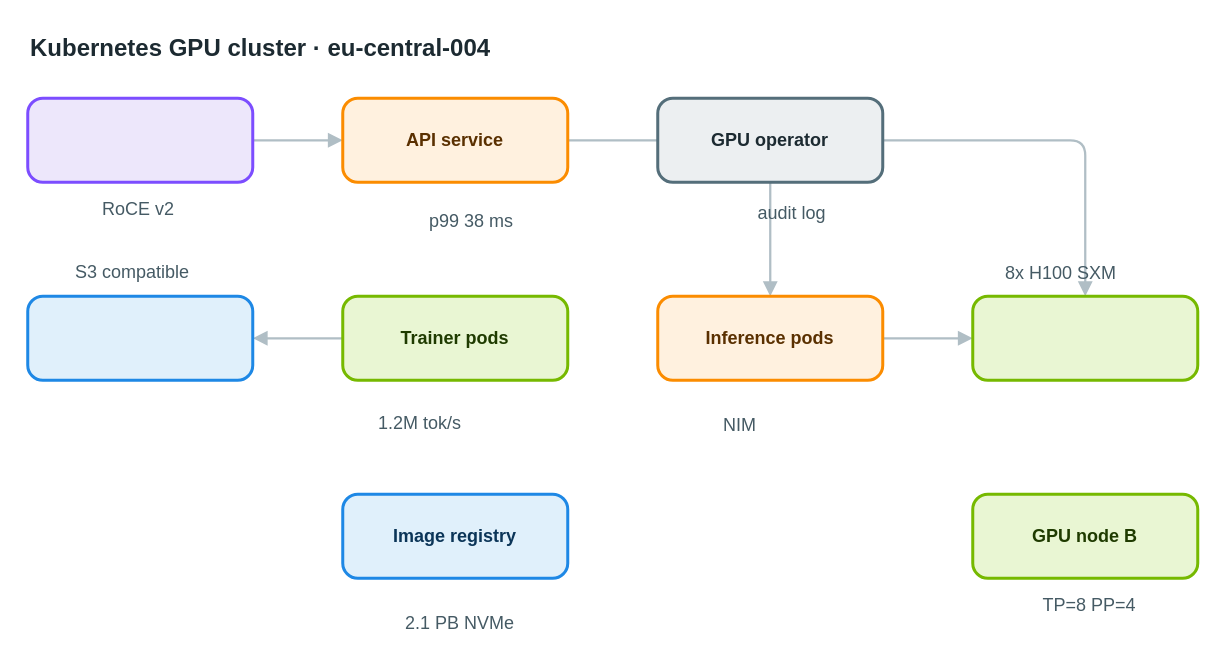
This 1224x660 diagram has some shape labels left out. Each missing label, with the centre of its shape:
GPU node A: point 1084,337
Ingress: point 140,139
Volumes: point 140,337
